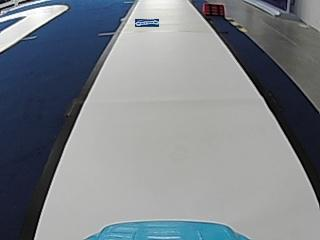bomb: (202, 3, 225, 15)
